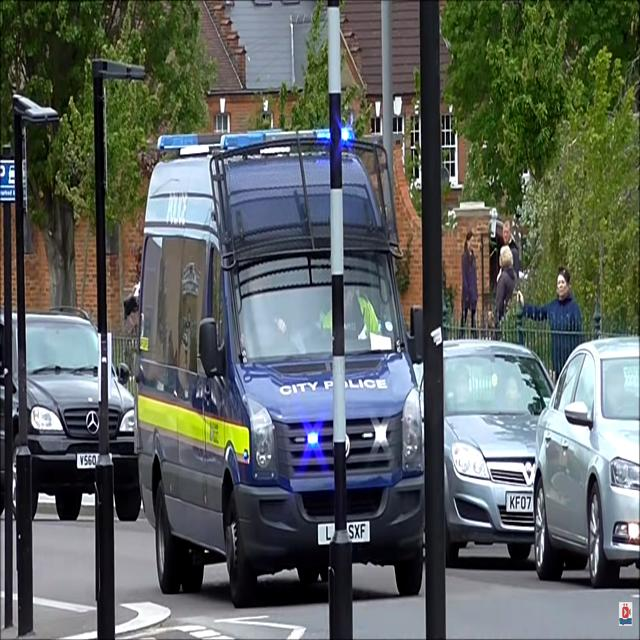emergency-vehicles: (132, 120, 429, 607)
